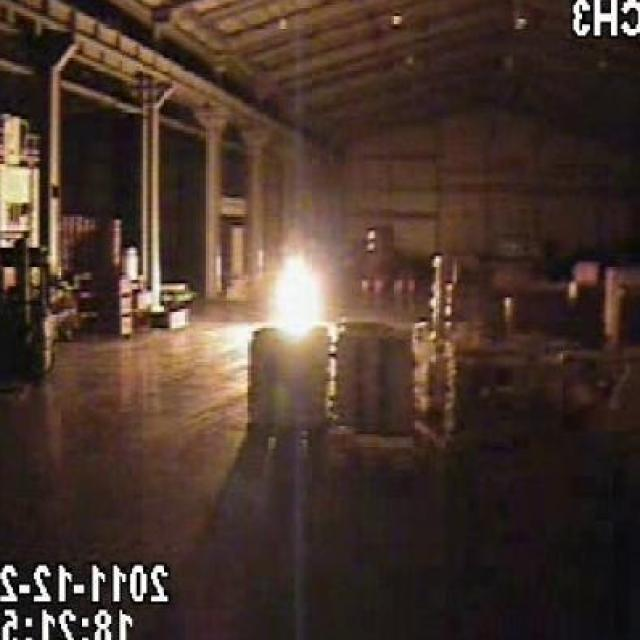smoke: (274, 238, 324, 340)
